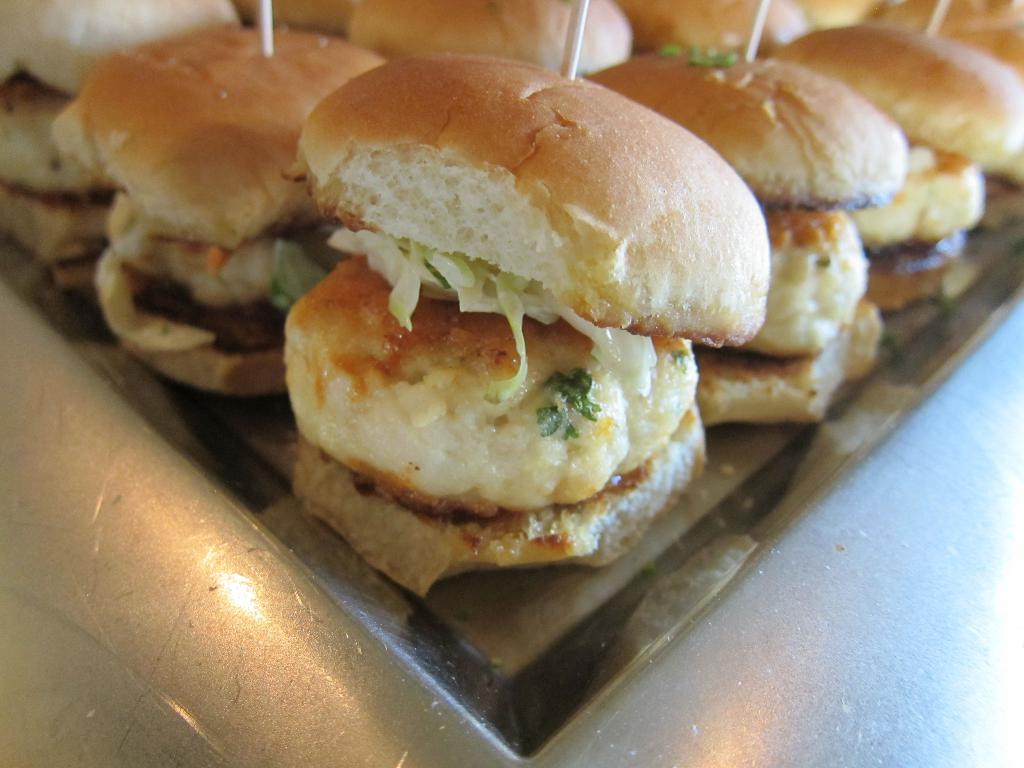Hamburger: (0, 0, 1023, 597)
